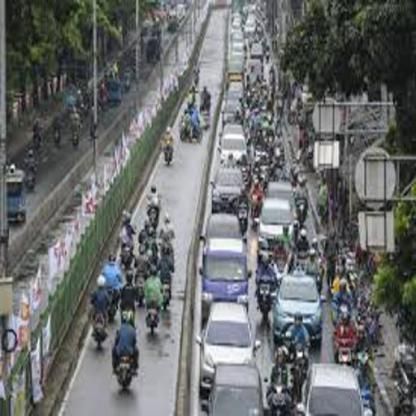car: (197, 302, 252, 381), (201, 234, 246, 309), (272, 267, 323, 333), (205, 361, 266, 415), (305, 364, 362, 415)
motorbike: (288, 337, 318, 374), (114, 350, 138, 391), (332, 332, 358, 366), (91, 308, 112, 348), (256, 270, 273, 314), (146, 302, 164, 336), (178, 119, 196, 139), (162, 142, 176, 165)
